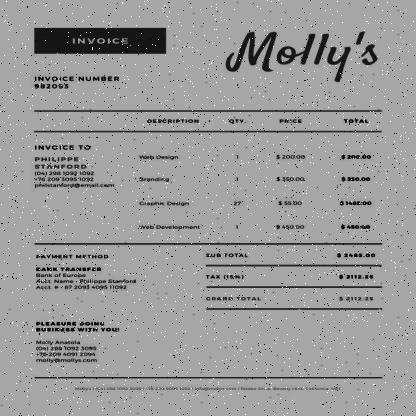Paragraph: (204, 248, 382, 310), (223, 28, 379, 84), (32, 320, 122, 366), (32, 252, 138, 291), (32, 142, 117, 190), (73, 386, 343, 392), (32, 74, 122, 90), (69, 36, 131, 46)
Table: (134, 110, 382, 244)
